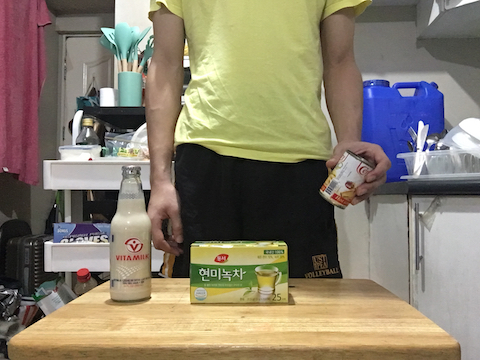bottle: (107, 161, 154, 303)
box: (185, 236, 295, 309)
can: (318, 146, 375, 211)
grab: (348, 151, 395, 207)
